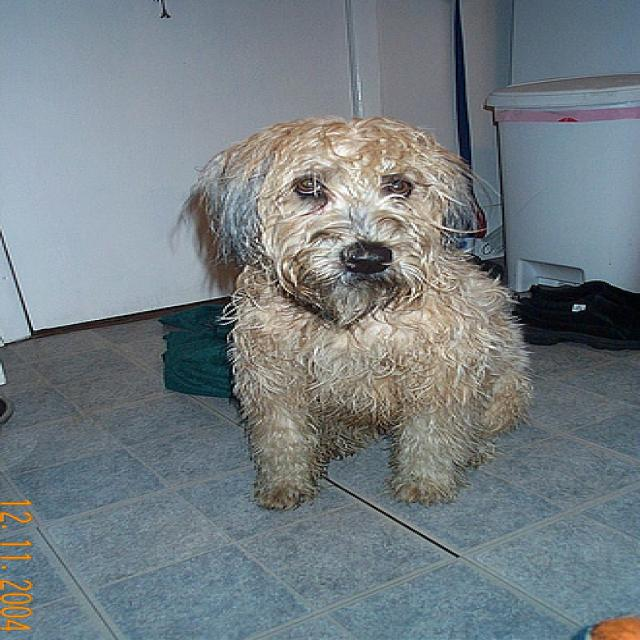dog-wheaten_terrier: (186, 102, 543, 513)
